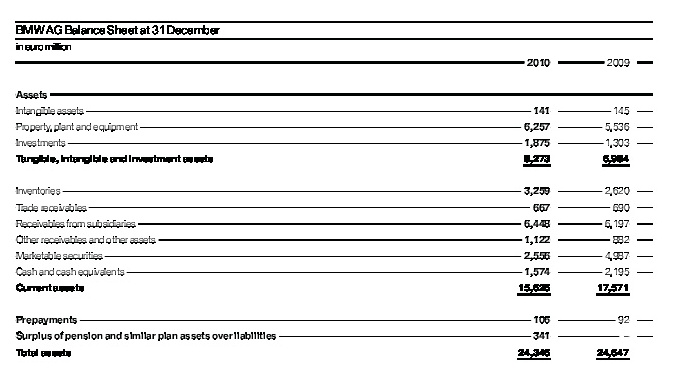table: (0, 0, 673, 375)
